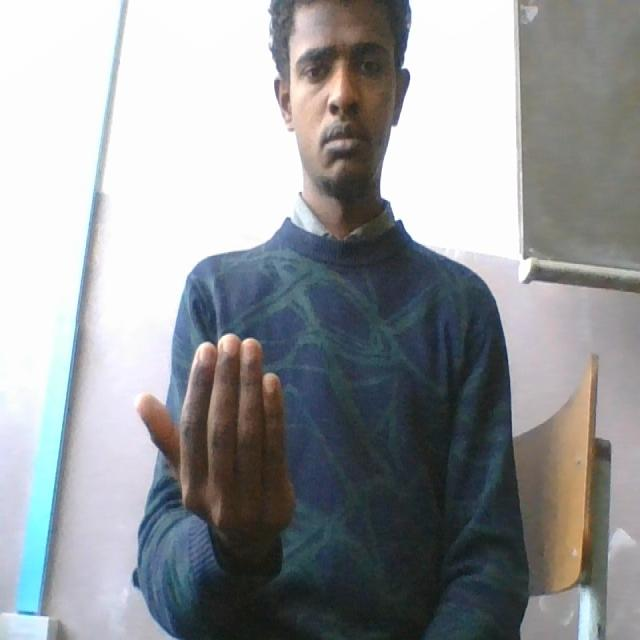na: (124, 320, 304, 581)
